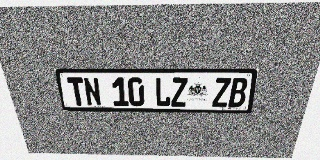0: (127, 77, 144, 106)
1: (111, 77, 129, 106)
B: (228, 78, 249, 107)
L: (155, 77, 171, 107)
N: (83, 77, 102, 106)
T: (67, 77, 87, 106)
Z: (212, 78, 231, 107), (171, 77, 188, 107)
